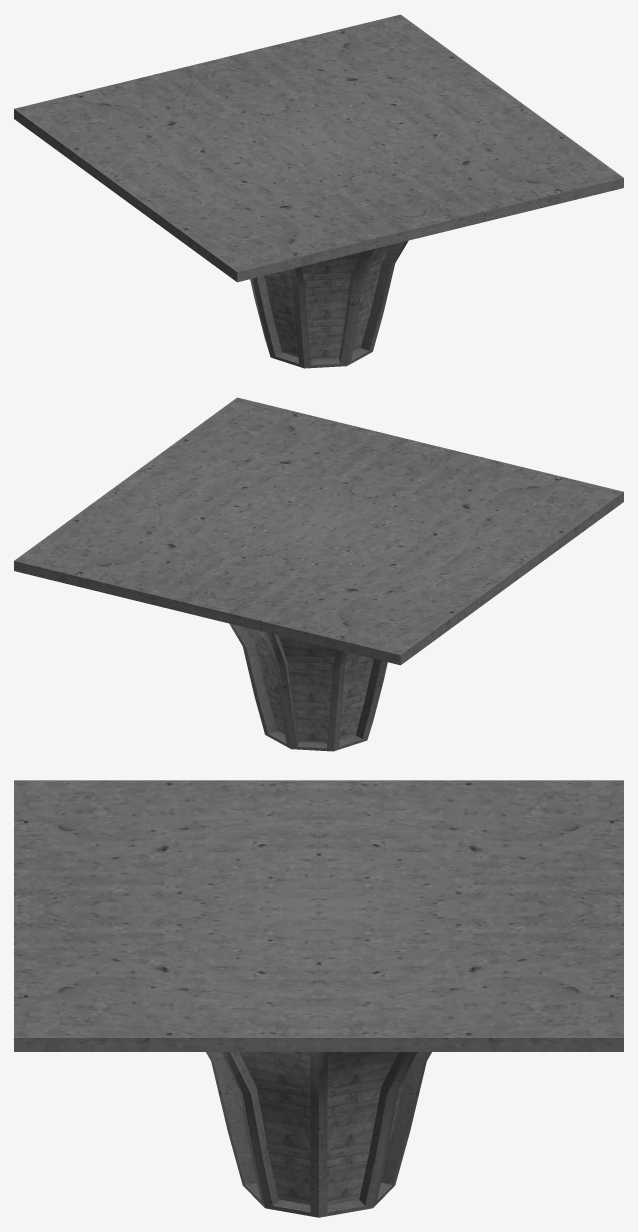
Rendered from castle-arch2-half.obj.
3 views of the same model, one above another, from view 1: azimuth 30°, elevation 25°; view 2: azimuth 150°, elevation 25°; view 3: azimuth 270°, elevation 25° (orthographic). The views are drawn at different scales.
Parts seen in each view (by area): view 1: castle-arch2; view 2: castle-arch2; view 3: castle-arch2.
Boxes of the visible parts, x1,y1,x2,y2 form: castle-arch2: [14, 14, 623, 368]; castle-arch2: [14, 397, 623, 751]; castle-arch2: [14, 780, 623, 1217].
Bounding box in the file's own units: 2 × 1 × 2.
1 material, 1 textured.
